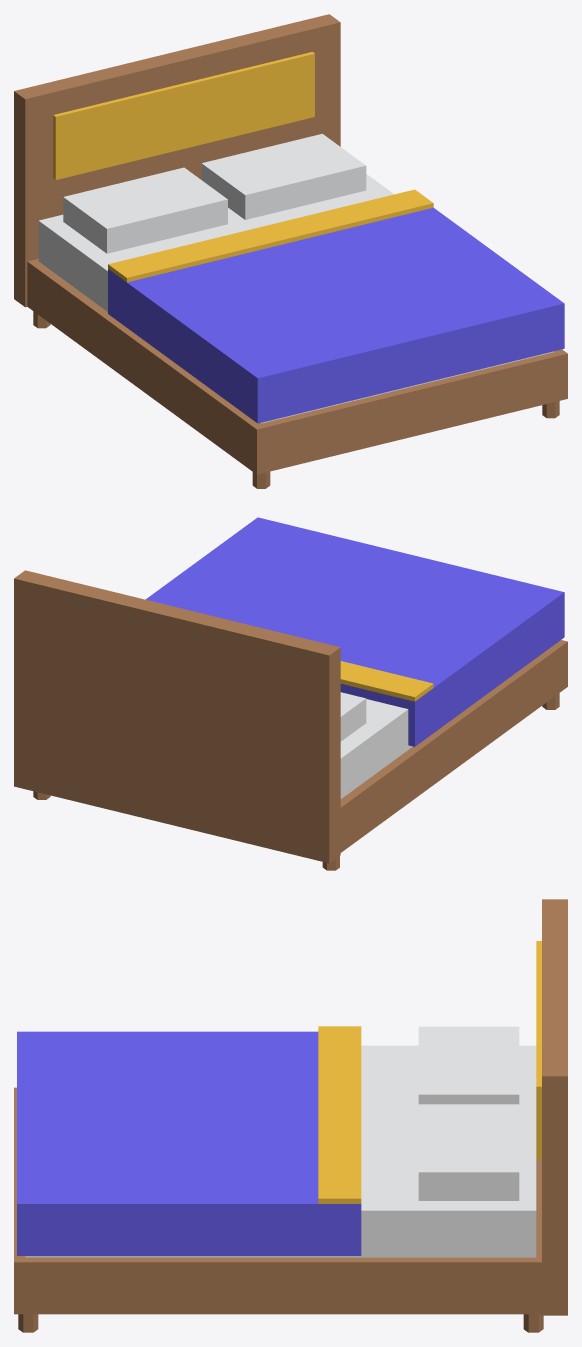
The model's file is bed.ce428a2d760d.glb.
3 views of the same model, one above another, from view 1: azimuth 30°, elevation 25°; view 2: azimuth 150°, elevation 25°; view 3: azimuth 270°, elevation 25° (orthographic). The views are drawn at different scales.
Parts seen in each view (by area): view 1: bed; view 2: bed; view 3: bed.
Part boxes in pixels (x1,y1,x2,y2): bed: (14, 14, 567, 488); bed: (14, 517, 567, 870); bed: (14, 899, 567, 1332).
Bounding box in the file's own units: 1.46 × 1 × 1.93.
